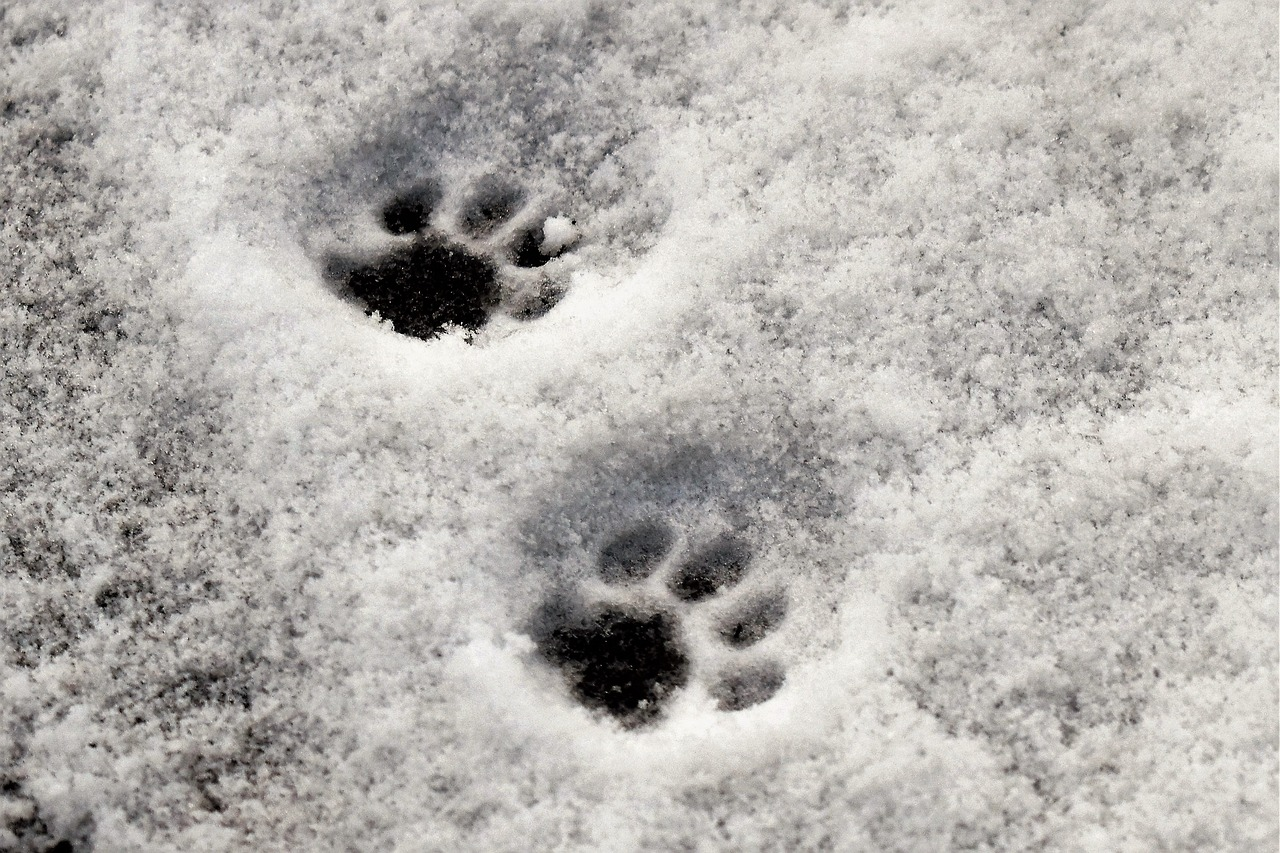cat: (520, 480, 815, 749), (307, 152, 589, 344)
